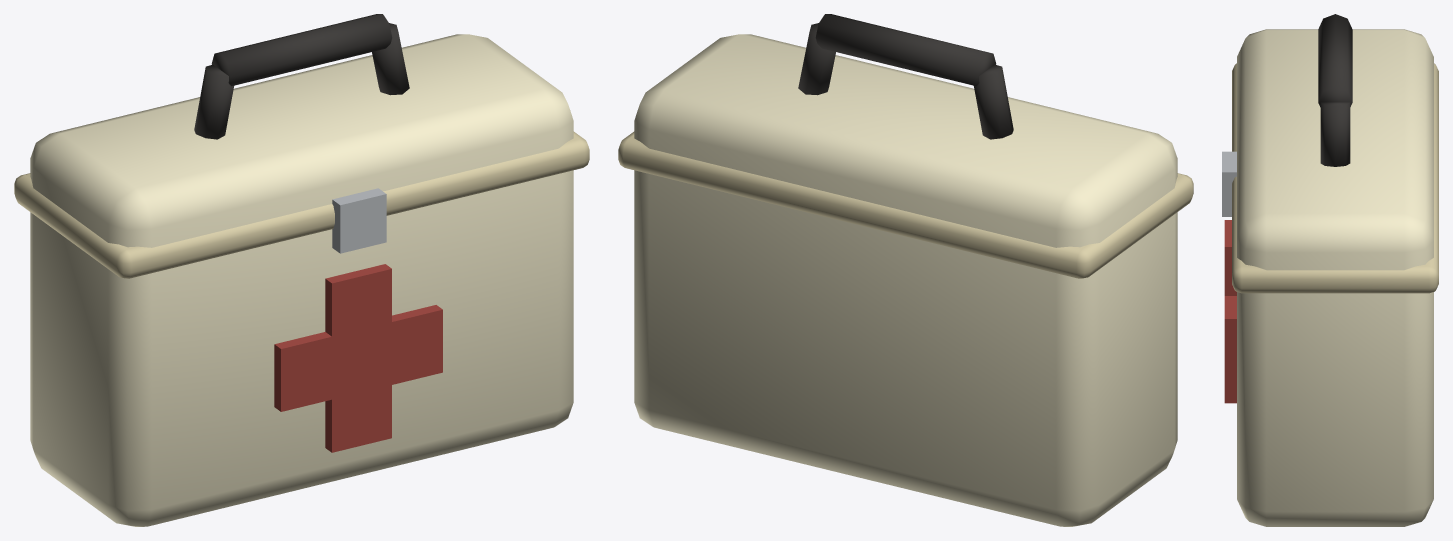
The model's file is meds.glb.
3 renders of one model, left to right at view 1: azimuth 30°, elevation 25°; view 2: azimuth 150°, elevation 25°; view 3: azimuth 270°, elevation 25°, orthographic. The views are drawn at different scales.
Parts seen in each view (by area): view 1: tin, lid, crossv, crossh, h3, latch, h1, h2; view 2: tin, lid, h3, h1, h2; view 3: tin, lid, h3, h2, crossh, crossv, latch.
Boxes of the visible parts, x1=… form: tin: x1=30, y1=34, x2=573, y2=526; lid: x1=14, y1=131, x2=589, y2=278; crossv: x1=325, y1=264, x2=391, y2=452; crossh: x1=274, y1=305, x2=442, y2=411; h3: x1=211, y1=14, x2=392, y2=86; latch: x1=332, y1=188, x2=386, y2=253; h1: x1=194, y1=64, x2=233, y2=139; h2: x1=372, y1=23, x2=409, y2=95; tin: x1=634, y1=34, x2=1177, y2=526; lid: x1=618, y1=131, x2=1193, y2=278; h3: x1=815, y1=14, x2=996, y2=86; h1: x1=974, y1=64, x2=1013, y2=139; h2: x1=798, y1=23, x2=835, y2=95; tin: x1=1237, y1=29, x2=1433, y2=526; lid: x1=1232, y1=63, x2=1438, y2=293; h3: x1=1318, y1=14, x2=1352, y2=107; h2: x1=1320, y1=102, x2=1350, y2=166; crossh: x1=1224, y1=296, x2=1236, y2=376; crossv: x1=1224, y1=220, x2=1236, y2=403; latch: x1=1222, y1=151, x2=1236, y2=216.
Size of the model in its own units: 0.204 by 0.172 by 0.088.
